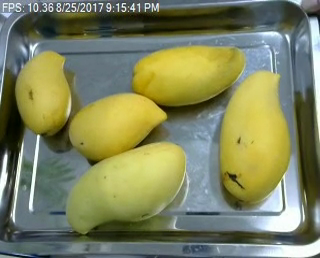Mango: (63, 139, 189, 237), (218, 68, 289, 203), (131, 43, 248, 107), (68, 92, 162, 157), (14, 51, 70, 133)
